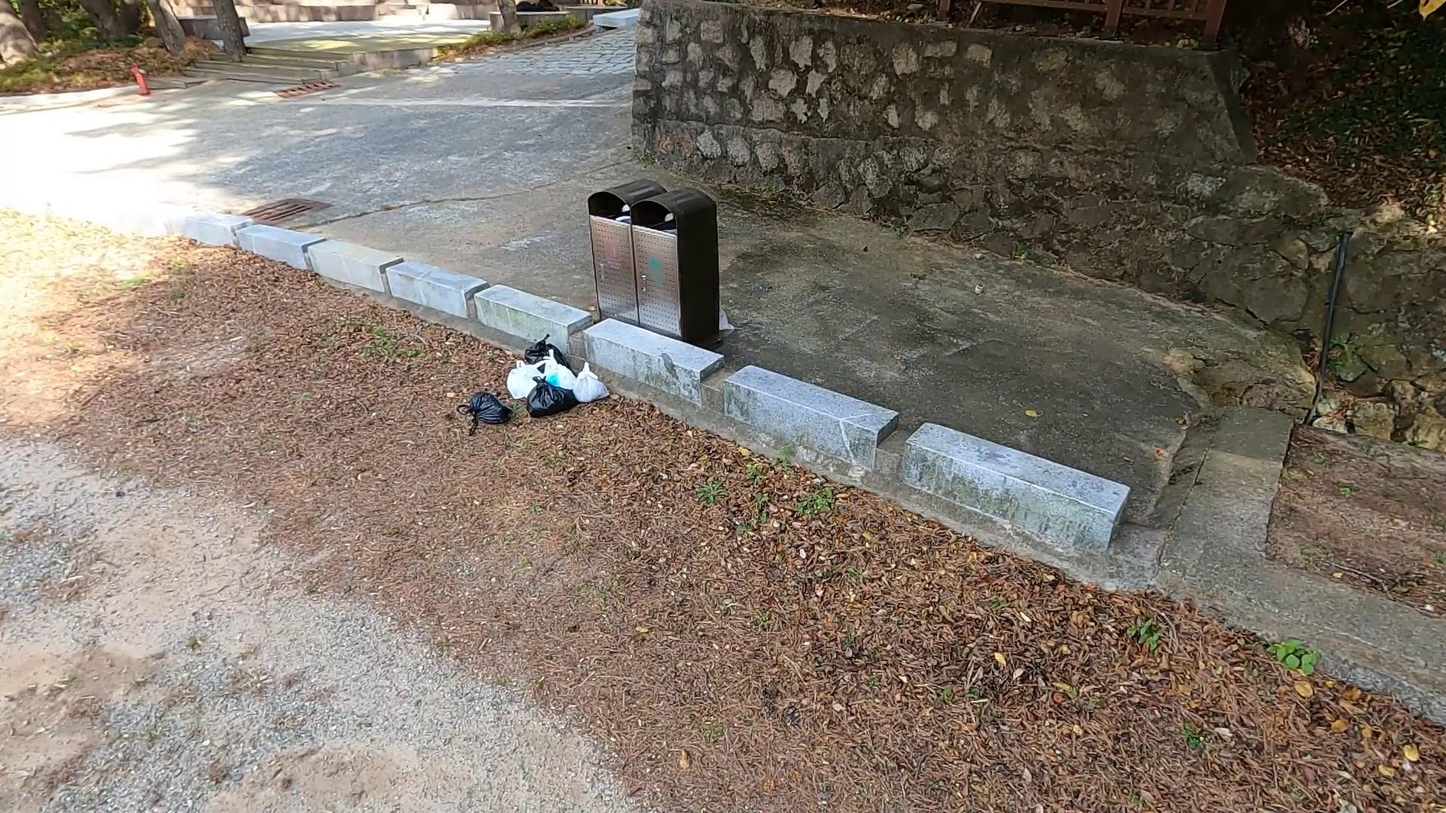trash: (525, 334, 581, 382), (456, 390, 513, 435), (528, 374, 577, 417), (506, 358, 546, 400), (541, 348, 578, 393), (572, 361, 611, 401)
